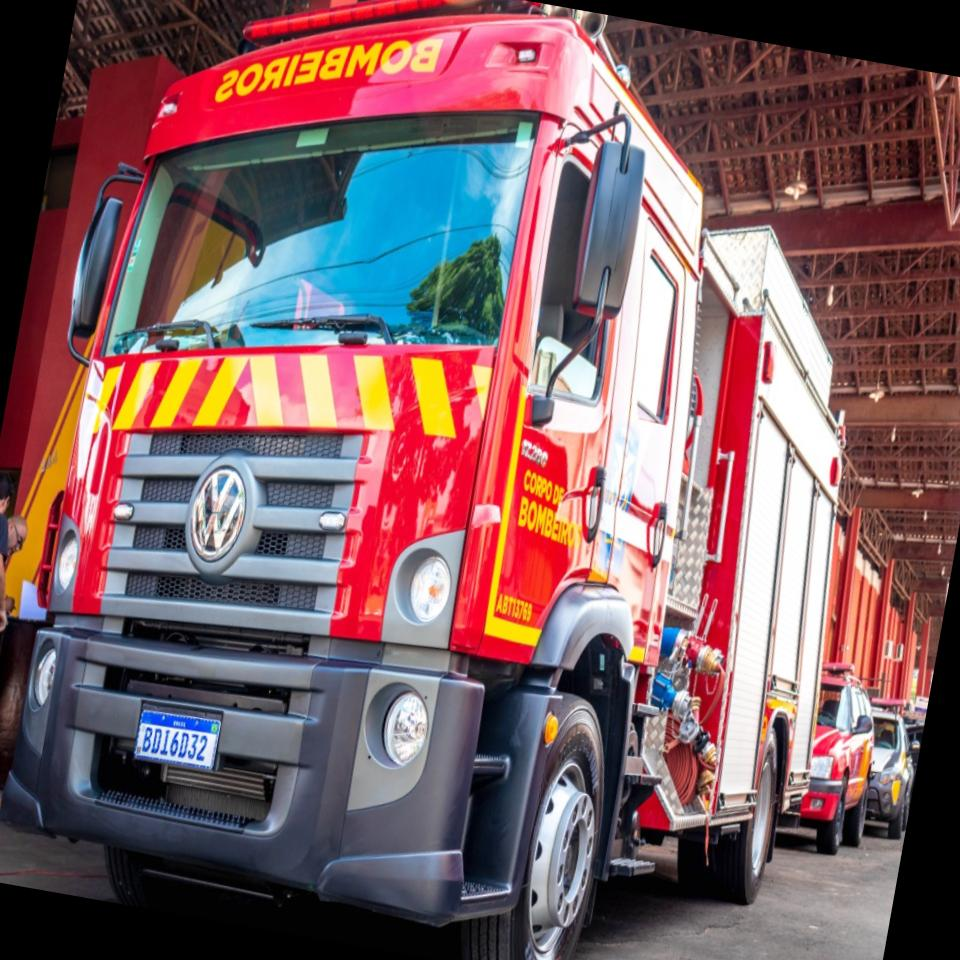viatura: (0, 0, 939, 960)
